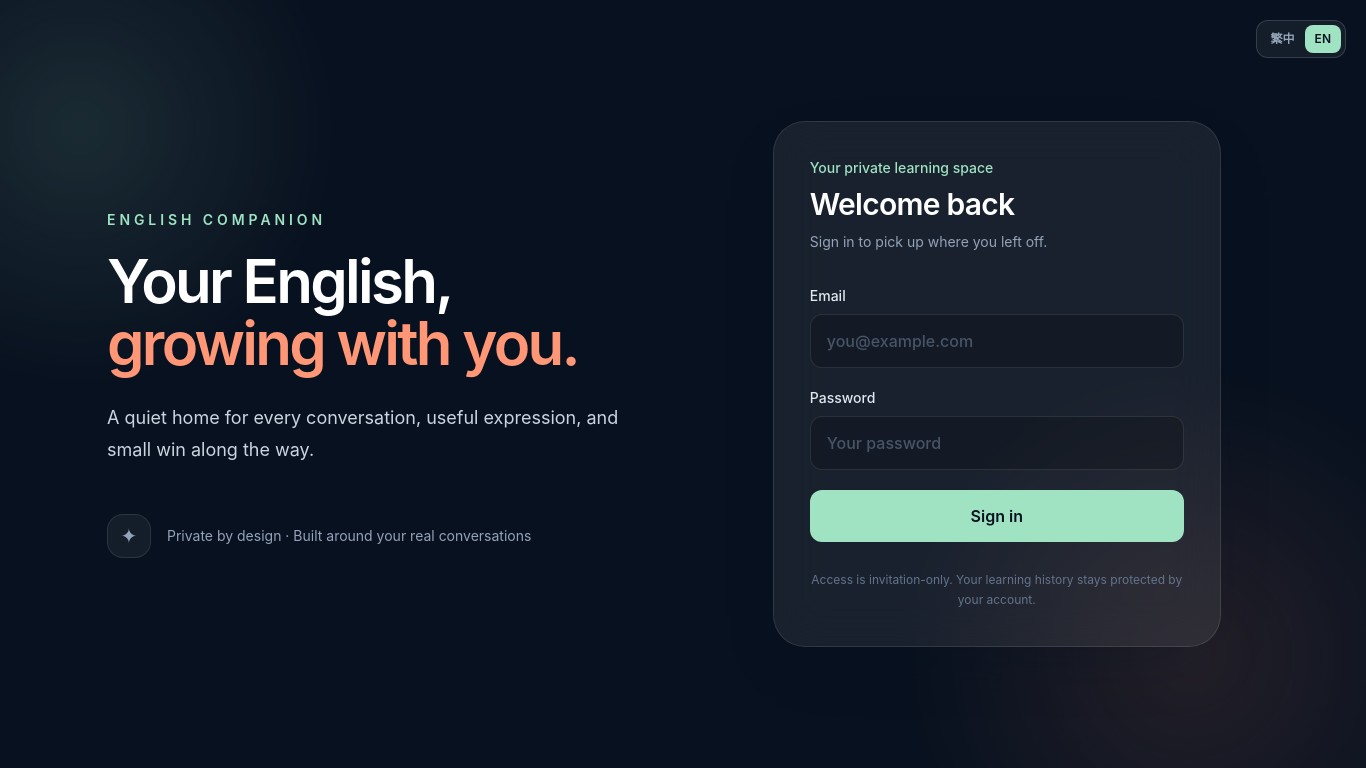
Test: LoginPage › shows a friendly error when credentials are rejected
The width and height of the screenshot is (1366, 768).
In the field labelled "Email": (997, 341) [810,314,1184,368], type "wrong@example.com"
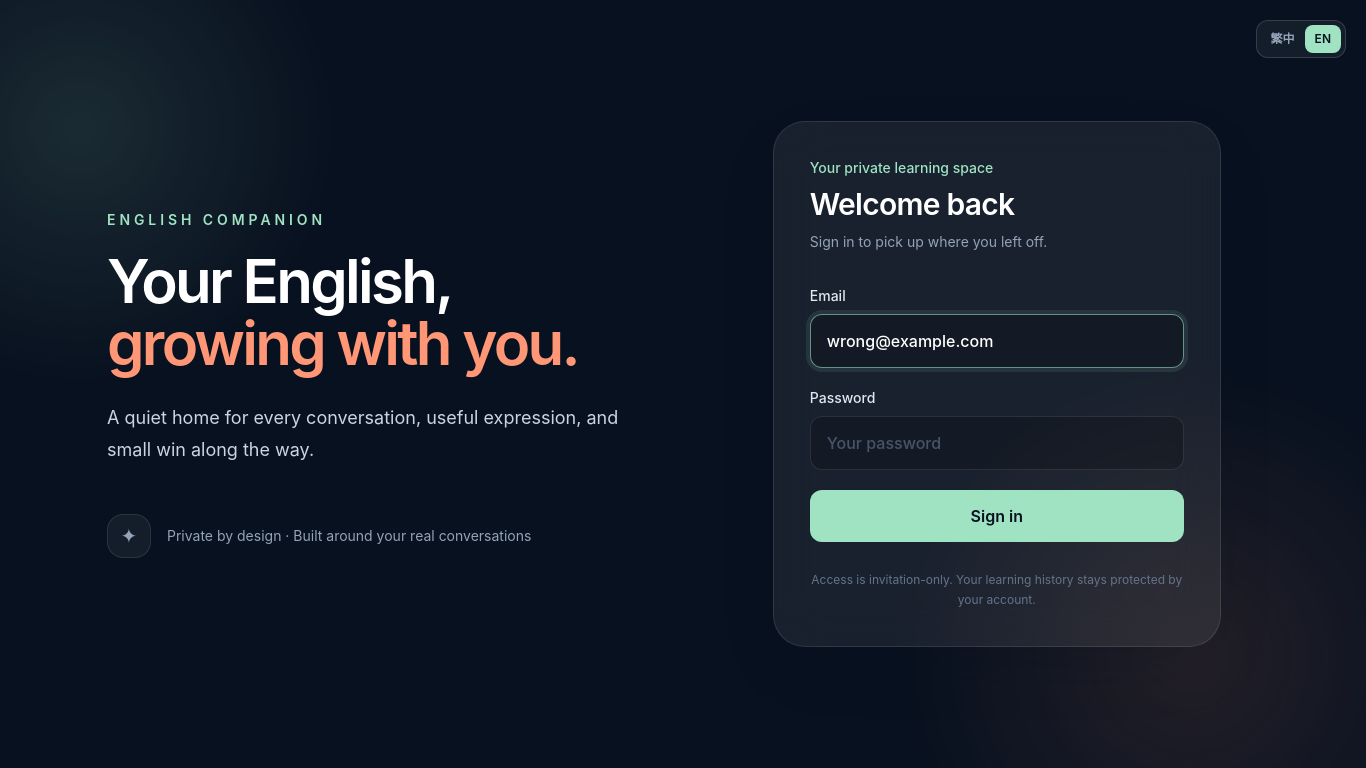
In the password field labelled "Password": (997, 443) [810,416,1184,470], type "not-the-password"
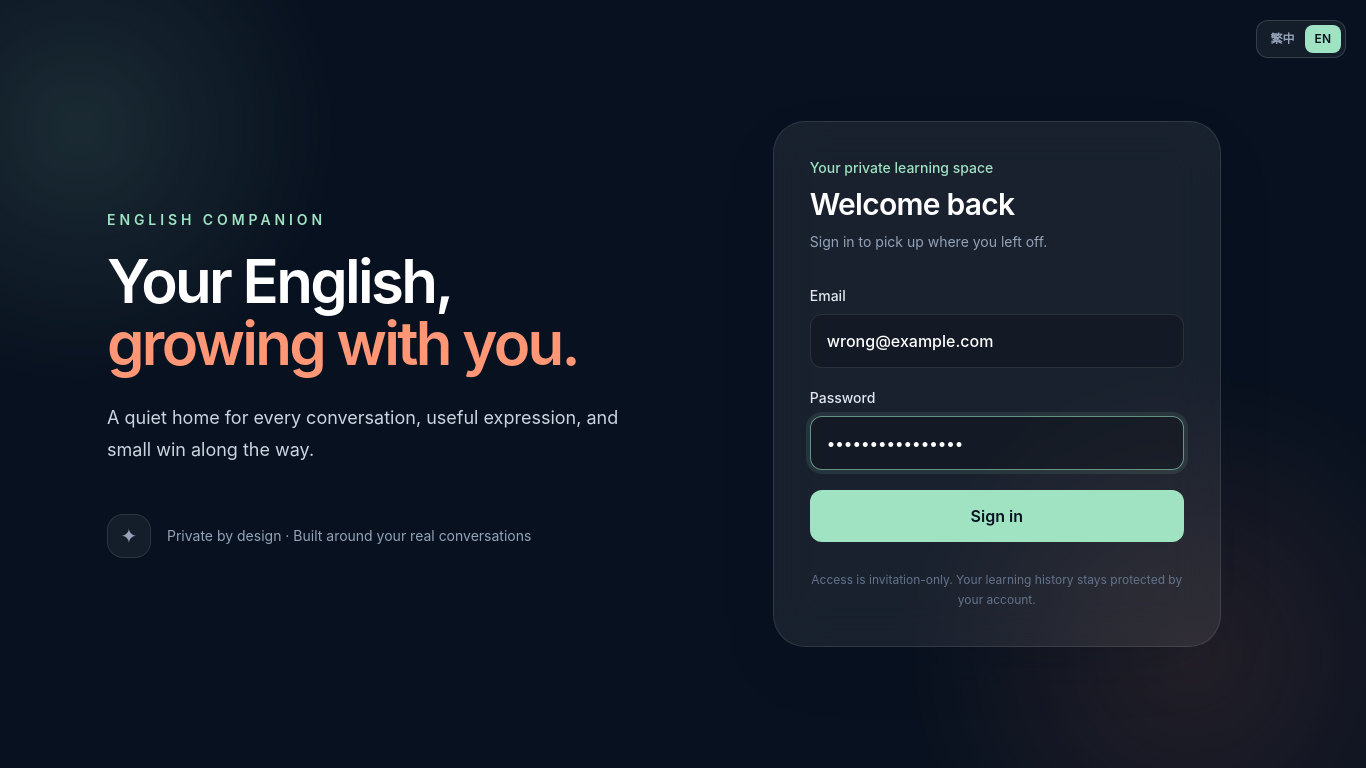
Click the button "Sign in": (997, 516) [810,490,1184,542]
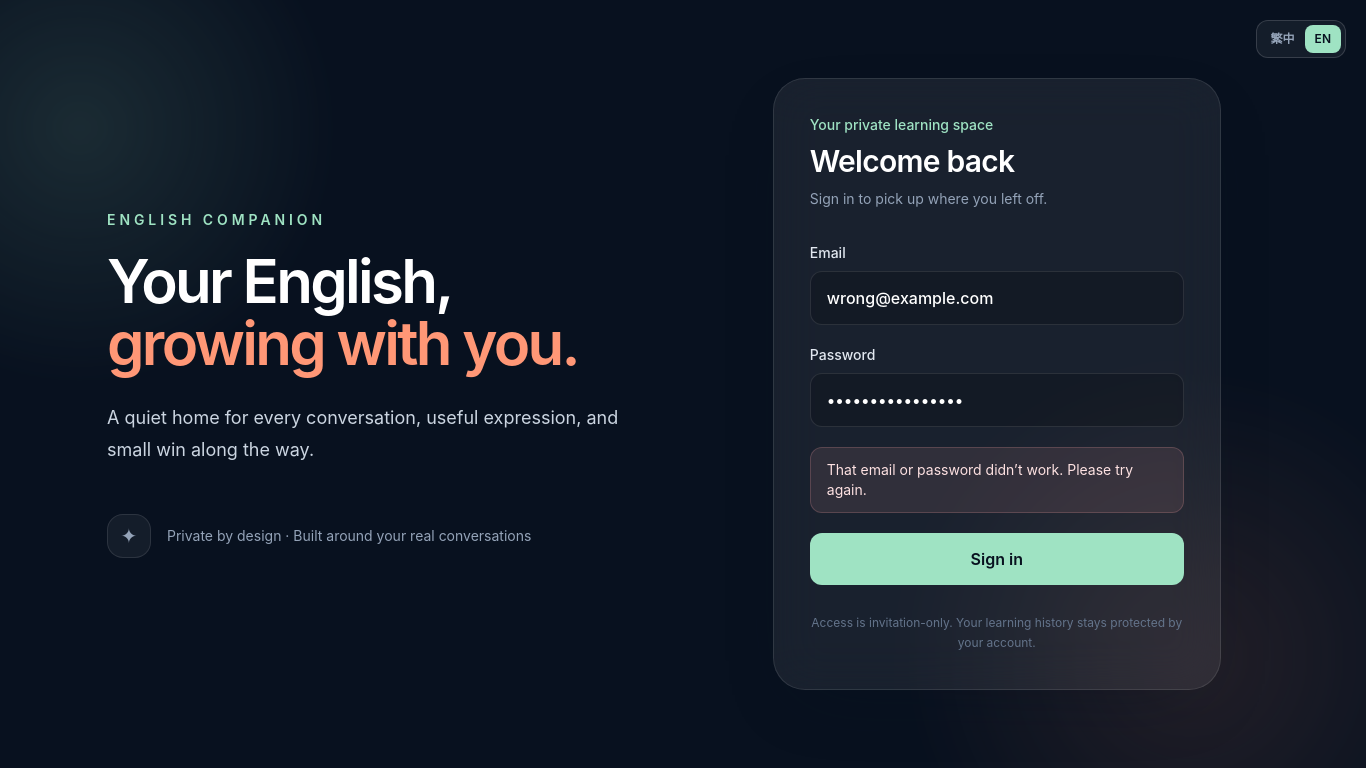
Result: the message shows "That email or password didn’t work" at [827,461,1133,498]
